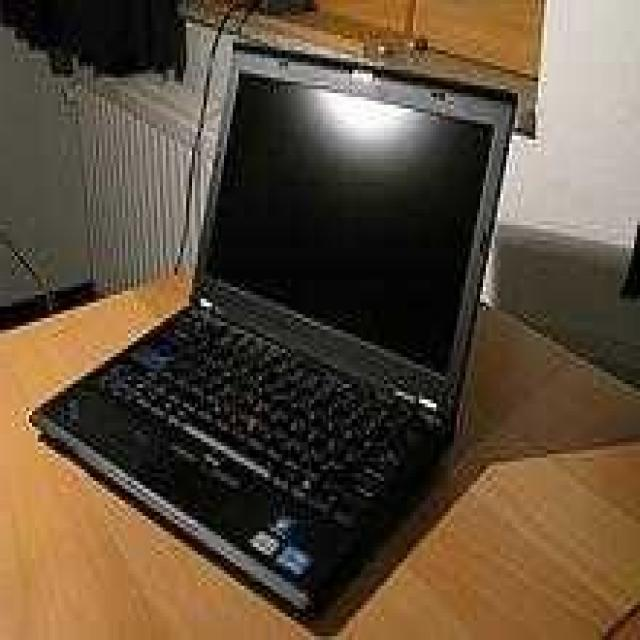laptop: (22, 41, 528, 582)
